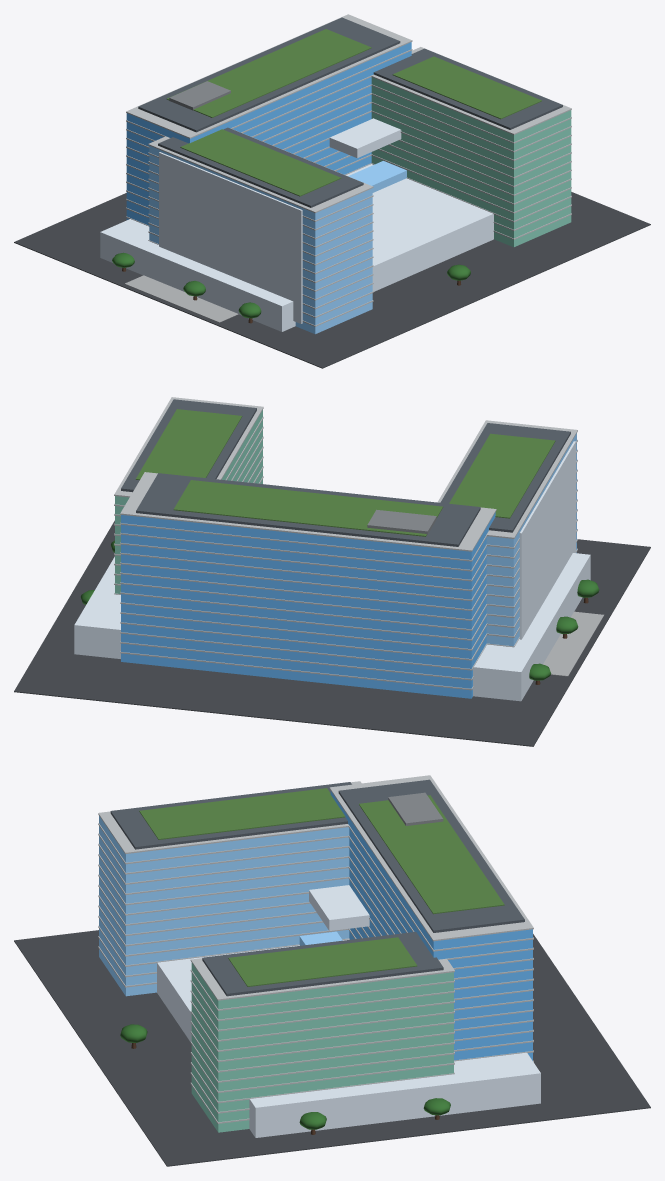
File: samsung-engineering-gec.glb
The picture shows the model from 3 angles, top to bottom: view 1: azimuth 30°, elevation 25°; view 2: azimuth 150°, elevation 25°; view 3: azimuth 270°, elevation 25°; orthographic projection. The views are drawn at different scales.
Bounding box in the file's own units: 231 × 61.25 × 219.
